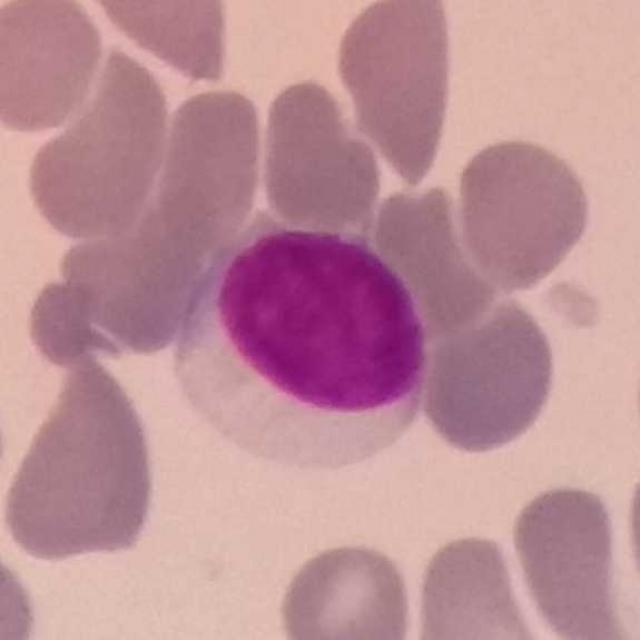Lymphocyte: (171, 226, 435, 479)
RBC: (0, 342, 164, 568), (17, 33, 177, 247), (413, 289, 562, 460), (329, 0, 460, 191), (449, 131, 596, 296), (253, 72, 386, 235), (148, 82, 269, 260), (506, 477, 636, 640), (406, 527, 555, 640), (272, 536, 418, 640), (0, 0, 108, 137), (70, 0, 234, 83), (0, 526, 47, 640), (619, 443, 640, 622), (0, 364, 16, 549), (629, 318, 640, 474)
